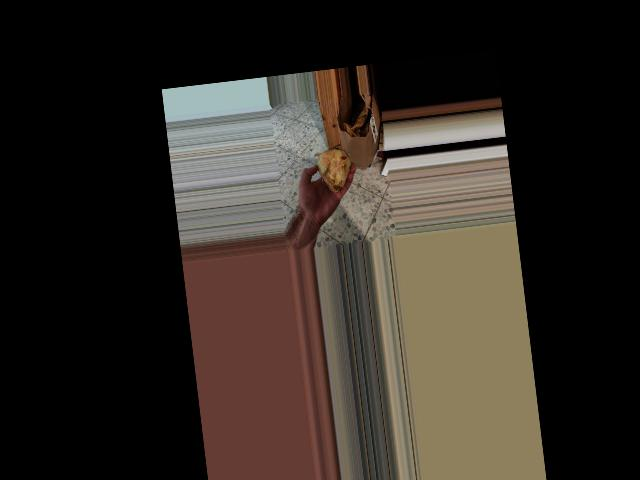onion: (314, 142, 355, 197)
